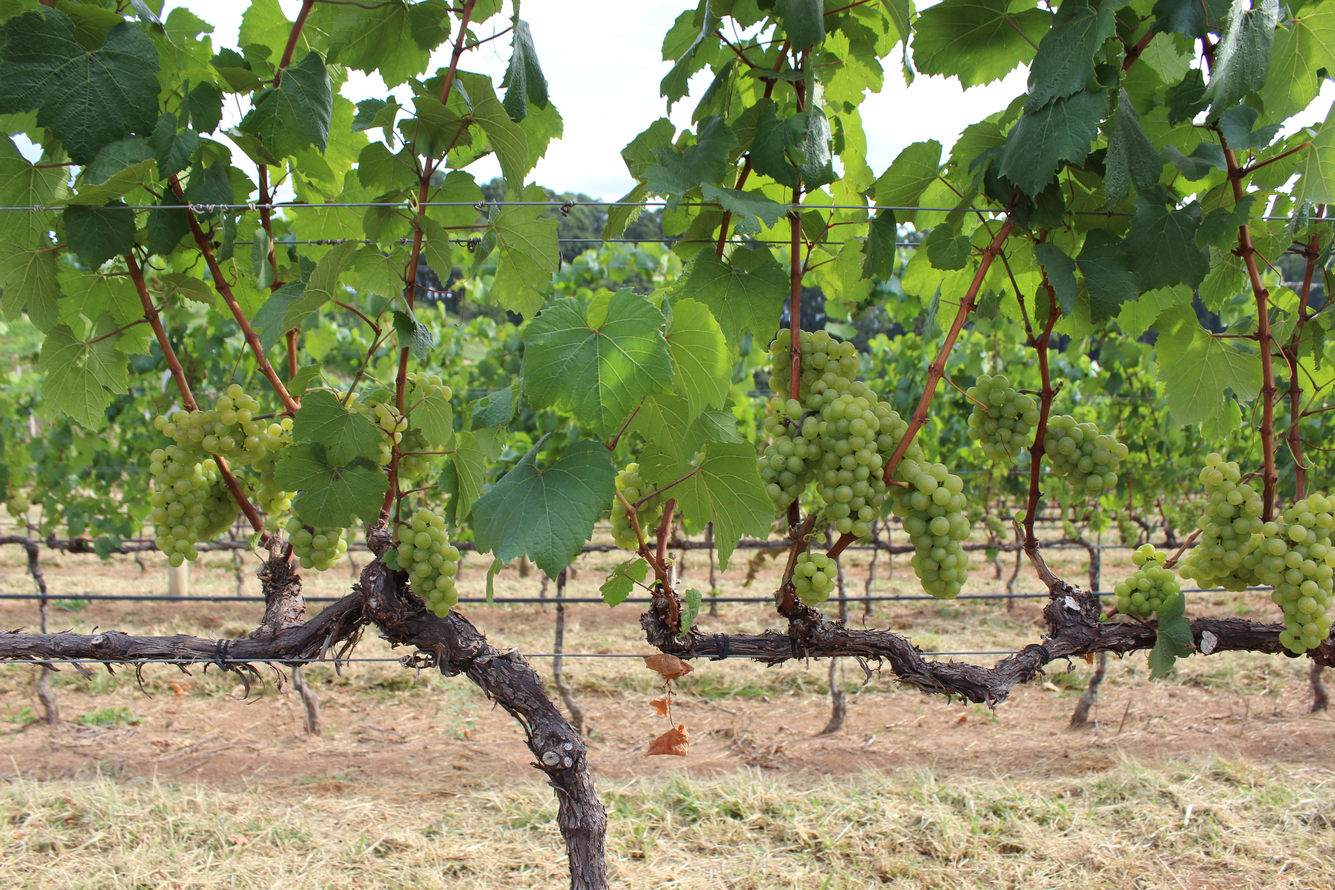leaf: (0, 8, 160, 164), (523, 289, 674, 434), (472, 440, 615, 578), (670, 443, 774, 569), (1154, 305, 1261, 424), (912, 0, 1052, 88), (998, 90, 1107, 196), (677, 247, 789, 343), (1025, 0, 1120, 110), (240, 52, 333, 158), (38, 324, 128, 430), (275, 443, 388, 527), (1126, 190, 1209, 291), (666, 298, 732, 420), (490, 205, 560, 317), (1104, 90, 1162, 208), (294, 390, 382, 466), (1076, 229, 1140, 324), (0, 239, 61, 331), (62, 202, 135, 269), (501, 18, 548, 122), (873, 140, 942, 208), (600, 557, 648, 606), (640, 443, 678, 486), (895, 210, 914, 223), (525, 187, 540, 201), (752, 457, 755, 467), (537, 197, 542, 200), (933, 7, 938, 9), (942, 3, 945, 5), (1109, 0, 1112, 2), (1112, 202, 1116, 203), (609, 492, 610, 496), (544, 437, 545, 438), (540, 316, 541, 317), (308, 396, 309, 397), (1184, 422, 1185, 422), (543, 196, 545, 196), (316, 523, 322, 523)
